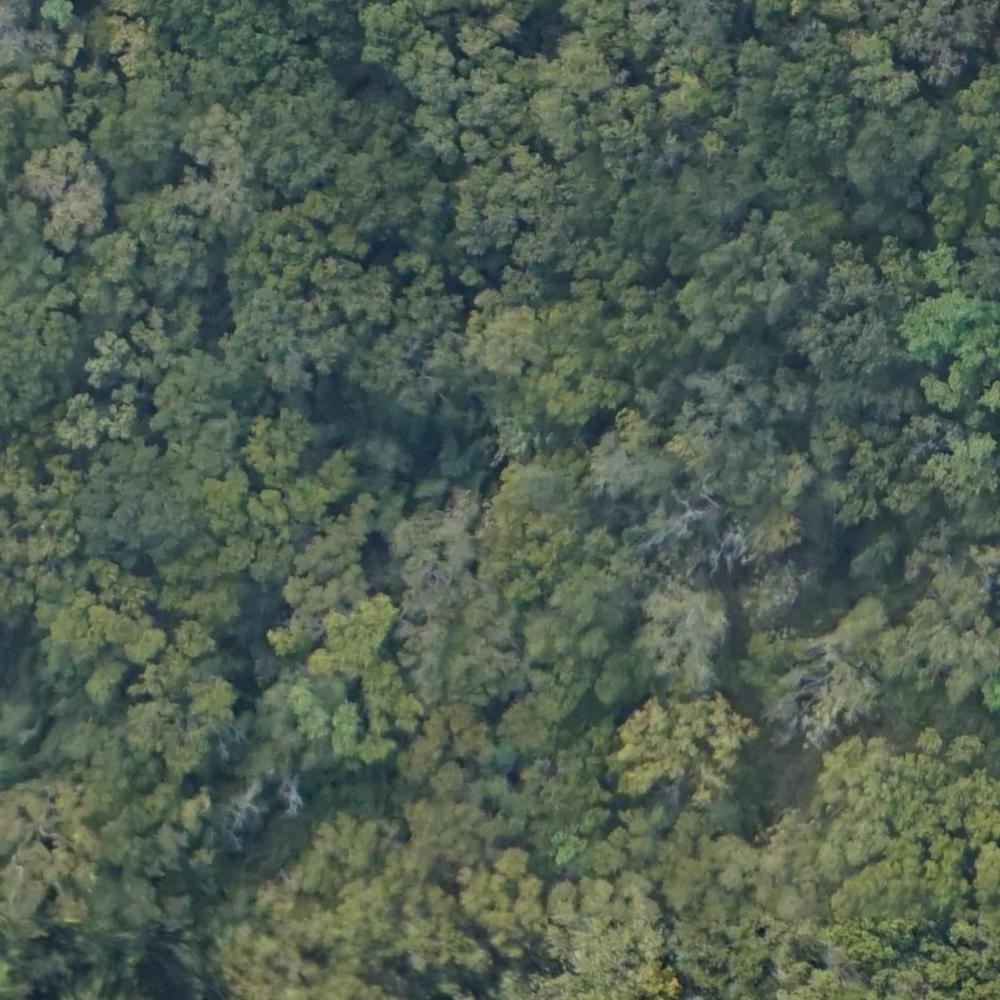tree: (649, 581, 724, 697), (88, 96, 169, 175), (692, 360, 764, 430), (197, 465, 264, 538), (472, 309, 543, 377), (457, 173, 513, 246), (849, 62, 924, 116), (183, 674, 246, 733), (53, 389, 105, 449), (63, 178, 119, 229), (89, 334, 147, 383), (502, 458, 560, 504), (770, 369, 825, 417), (834, 593, 889, 640), (659, 67, 707, 120), (827, 255, 873, 310), (110, 562, 163, 608), (323, 220, 381, 262), (190, 583, 239, 631), (82, 655, 127, 706), (767, 448, 819, 491), (119, 623, 177, 661), (366, 658, 406, 708), (757, 513, 800, 556), (209, 535, 257, 573), (23, 153, 64, 196), (332, 703, 364, 756), (486, 844, 526, 886), (324, 458, 362, 501), (428, 761, 466, 803), (279, 677, 314, 719), (849, 33, 893, 65), (460, 592, 498, 629), (593, 670, 630, 704), (945, 734, 979, 767), (100, 399, 135, 430), (913, 722, 944, 756), (297, 186, 332, 216), (634, 831, 661, 865), (715, 863, 746, 892), (593, 837, 622, 868), (463, 126, 491, 155), (85, 552, 112, 582)
